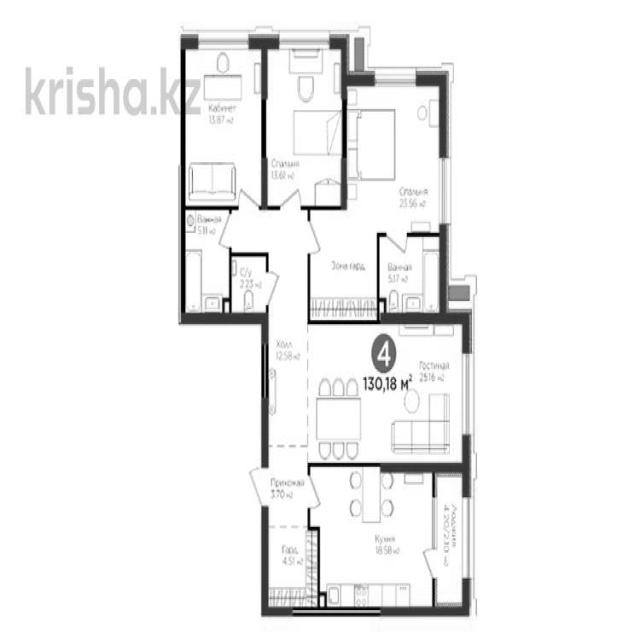balcony: (436, 471, 468, 611)
bathroom: (182, 212, 232, 321), (230, 254, 268, 322)
hallway: (267, 212, 311, 618)
kitchen: (306, 470, 436, 612)
living_room: (305, 322, 469, 467), (346, 72, 447, 240), (184, 35, 266, 205), (266, 39, 346, 209)
